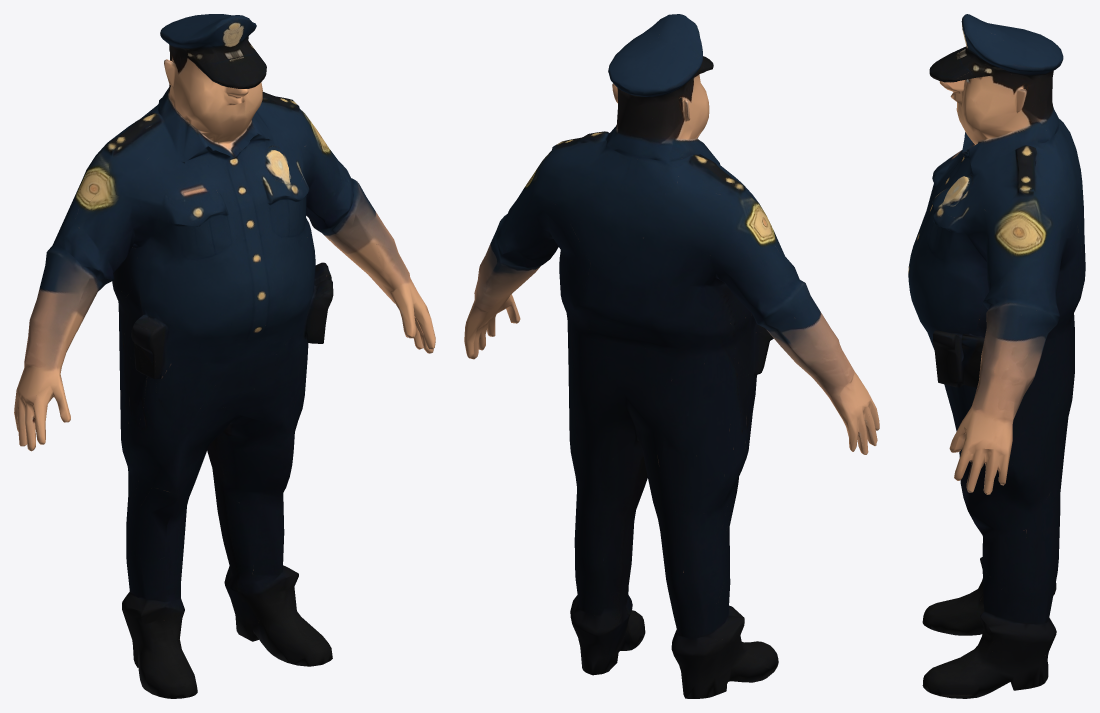
Rendered from pilot-guard-refine_glb.glb.
3 views of the same model, side by side, from view 1: azimuth 30°, elevation 25°; view 2: azimuth 150°, elevation 25°; view 3: azimuth 270°, elevation 25° (orthographic).
Bounding box in the file's own units: 1.23 × 1.9 × 0.477.
1 material, 1 textured.
